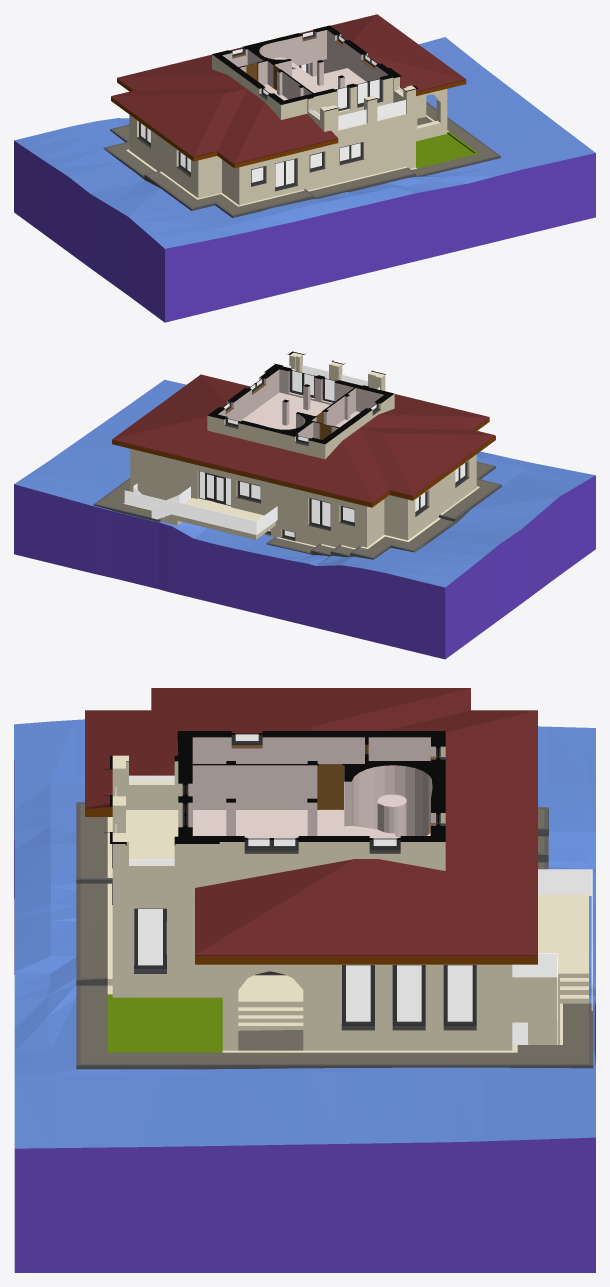
Rendered from casaBacau_firstFloor.glb.
The picture shows the model from 3 angles, top to bottom: view 1: azimuth 30°, elevation 25°; view 2: azimuth 150°, elevation 25°; view 3: azimuth 270°, elevation 25°; orthographic projection. The views are drawn at different scales.
Visible parts, largest first — view 1: Tigla rosie - ondulata.005, Model 1.004, Plane.002, Balstrada-02.001; view 2: Tigla rosie - ondulata.005, Model 1.004, Balustrada-01.001, Plane.002; view 3: Tigla rosie - ondulata.005, Model 1.004, Plane.002, Balustrada-01.001.
Part boxes in pixels (<box>): Tigla rosie - ondulata.005: <box>14,14,595,322</box>; Model 1.004: <box>222,30,388,165</box>; Plane.002: <box>212,25,418,111</box>; Balstrada-02.001: <box>309,87,405,129</box>; Tigla rosie - ondulata.005: <box>14,352,595,659</box>; Model 1.004: <box>218,369,383,439</box>; Balustrada-01.001: <box>124,483,277,534</box>; Plane.002: <box>208,351,394,444</box>; Tigla rosie - ondulata.005: <box>14,688,595,1272</box>; Model 1.004: <box>186,734,437,1068</box>; Plane.002: <box>104,731,445,845</box>; Balustrada-01.001: <box>512,869,592,1044</box>.
Size of the model in its own units: 33.06 by 10.83 by 20.02.
